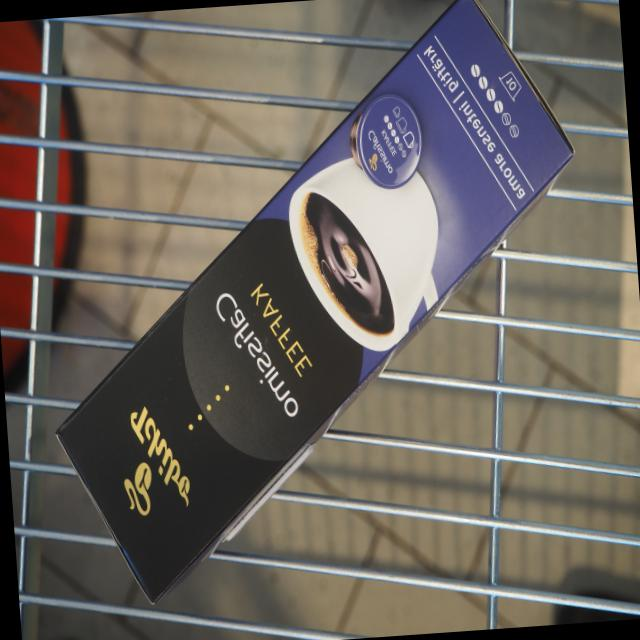Simo Kaffee Kraft: (49, 0, 578, 616)
